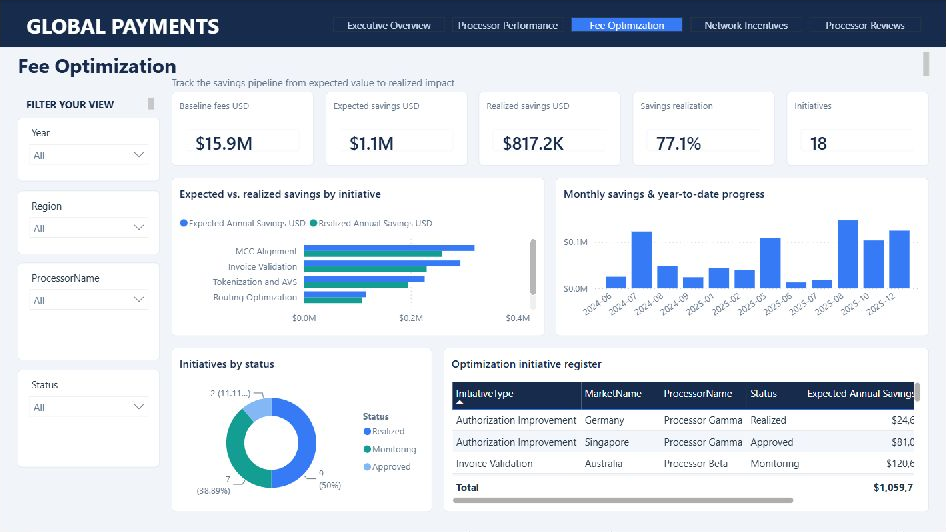

Layout of this report page (visuals, bound fields, positions):
{"tool":"powerbi","page":{"name":"Fee Optimization","canvas":[1280,720],"ordinal":2},"visuals":[{"type":"slicer","fields":{"Values":["DimMarket.Region"]},"box":[1.5,240.8,193.5,149.3],"z":0},{"type":"slicer","fields":{"Values":["DimProcessor.ProcessorName"]},"box":[0,408.4,195,149.3],"z":1000},{"type":"slicer","fields":{"Values":["FactOptimization.Status"]},"box":[0,571.4,195,149.3],"z":2000},{"type":"cardVisual","fields":{"Data":["AllMeasures.Baseline Annual Fees USD"]},"box":[190.5,59.4,213.3,103.6],"z":3000},{"type":"cardVisual","fields":{"Data":["AllMeasures.Expected Annual Savings USD"]},"box":[413,59.4,211.8,103.6],"z":4000},{"type":"cardVisual","fields":{"Data":["AllMeasures.Realized Annual Savings USD"]},"box":[633.9,59.4,213.3,103.6],"z":5000},{"type":"cardVisual","fields":{"Data":["AllMeasures.Savings Realization Rate"]},"box":[856.4,59.4,211.8,103.6],"z":6000},{"type":"cardVisual","fields":{"Data":["AllMeasures.Optimization Initiatives"]},"box":[1066.7,59.4,213.3,103.6],"z":7000},{"type":"clusteredBarChart","title":"Expected vs Realized Savings by Initiative Type","fields":{"Category":["FactOptimization.InitiativeType"],"Y":["AllMeasures.Expected Annual Savings USD","AllMeasures.Realized Annual Savings USD"]},"box":[195,162.5,545.5,281.9],"z":8000},{"type":"columnChart","title":"Realized Savings Trend by Month","fields":{"Category":["DimDate.Year Month"],"Y":["AllMeasures.Realized Annual Savings USD"]},"box":[740.6,162.5,539.4,280.4],"z":9000},{"type":"donutChart","fields":{"Category":["FactOptimization.Status"],"Y":["AllMeasures.Optimization Initiatives"]},"box":[195,446.5,545.5,271.2],"z":10000},{"type":"tableEx","fields":{"Values":["FactOptimization.InitiativeType","DimMarket.MarketName","DimProcessor.ProcessorName","FactOptimization.Status","AllMeasures.Expected Annual Savings USD","AllMeasures.Realized Annual Savings USD"]},"box":[742.1,446.5,537.9,271.2],"z":11000},{"type":"slicer","fields":{"Values":["DimDate.Year"]},"box":[0,74.7,195,149.3],"z":12000},{"type":"pageNavigator","box":[1.9,7.7,672.1,55.8],"z":13000}]}

Visuals, with their boxes in screenshot pixels (x1, y1, x2, y2), scaled from the page's 1280x720 canvas onto the 946x532 screenshot:
slicer - DimMarket.Region: (left=1, top=178, right=144, bottom=288)
slicer - DimProcessor.ProcessorName: (left=0, top=302, right=144, bottom=412)
slicer - FactOptimization.Status: (left=0, top=422, right=144, bottom=531)
cardVisual - AllMeasures.Baseline Annual Fees USD: (left=141, top=44, right=298, bottom=120)
cardVisual - AllMeasures.Expected Annual Savings USD: (left=305, top=44, right=462, bottom=120)
cardVisual - AllMeasures.Realized Annual Savings USD: (left=468, top=44, right=626, bottom=120)
cardVisual - AllMeasures.Savings Realization Rate: (left=633, top=44, right=789, bottom=120)
cardVisual - AllMeasures.Optimization Initiatives: (left=788, top=44, right=945, bottom=120)
"Expected vs Realized Savings by Initiative Type" clusteredBarChart: (left=144, top=120, right=547, bottom=328)
"Realized Savings Trend by Month" columnChart: (left=547, top=120, right=945, bottom=327)
donutChart - FactOptimization.Status x AllMeasures.Optimization Initiatives: (left=144, top=330, right=547, bottom=530)
tableEx - FactOptimization.InitiativeType x DimMarket.MarketName: (left=548, top=330, right=945, bottom=530)
slicer - DimDate.Year: (left=0, top=55, right=144, bottom=166)
pageNavigator: (left=1, top=6, right=498, bottom=47)
